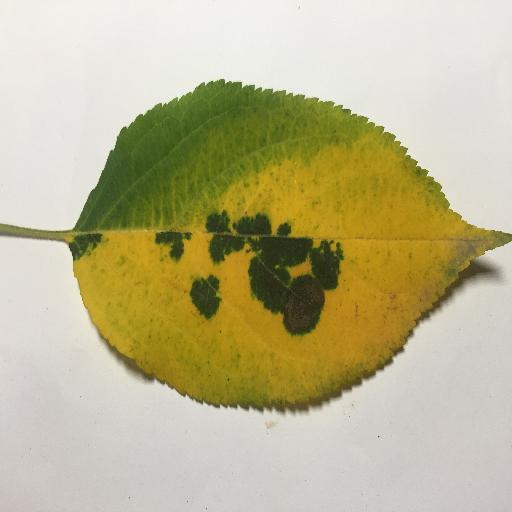Brown_Spot: (288, 280, 321, 332)
